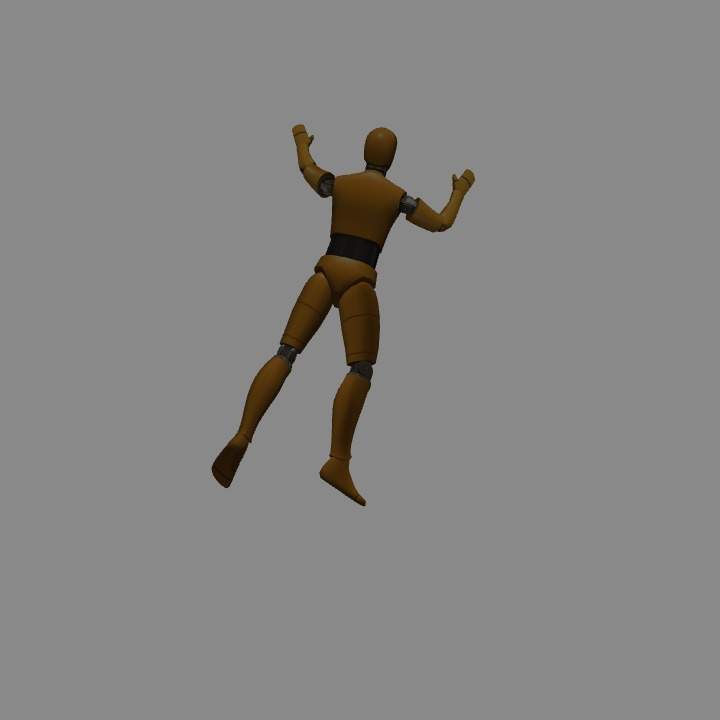victim: (290, 124, 400, 507)
